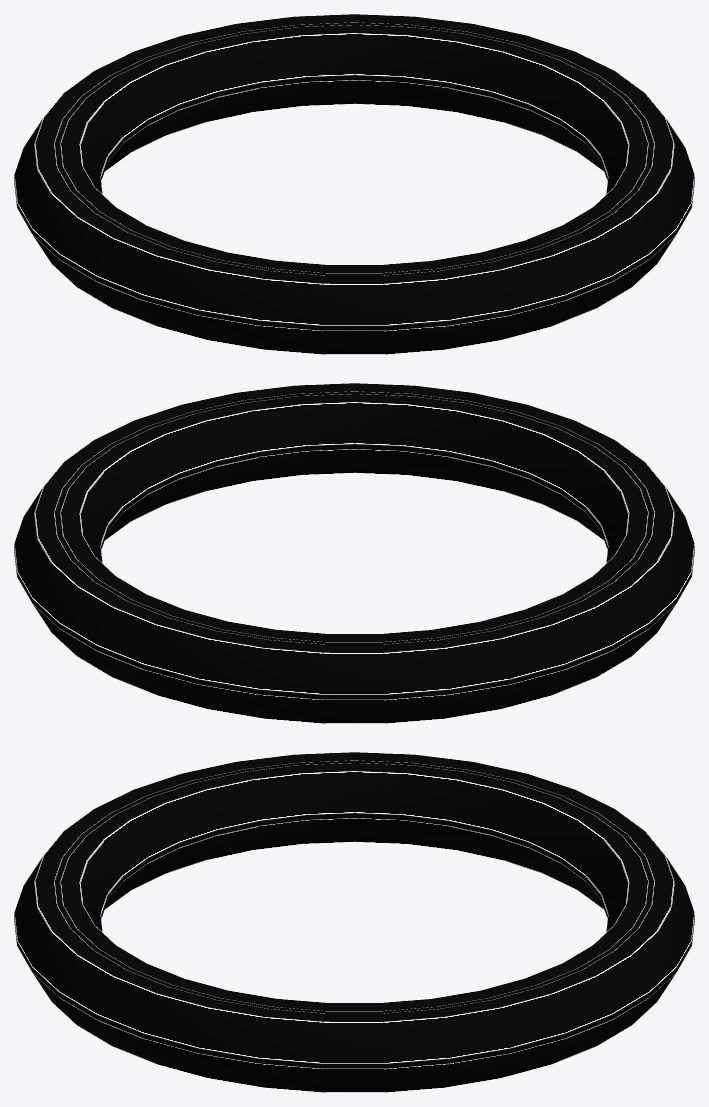
Rendered from Rign.fbx.
The picture shows the model from 3 angles, top to bottom: view 1: azimuth 30°, elevation 25°; view 2: azimuth 150°, elevation 25°; view 3: azimuth 270°, elevation 25°; orthographic projection.
Visible parts, largest first — view 1: Object_10, Object_12; view 2: Object_10, Object_12; view 3: Object_10, Object_12.
Part boxes in pixels (bbox=[...]): Object_10: bbox=[14, 14, 694, 354]; Object_12: bbox=[14, 22, 694, 330]; Object_10: bbox=[14, 383, 694, 723]; Object_12: bbox=[14, 391, 694, 699]; Object_10: bbox=[14, 752, 694, 1092]; Object_12: bbox=[14, 760, 694, 1068].
Bounding box in the file's own units: 1505 × 173 × 1507.
